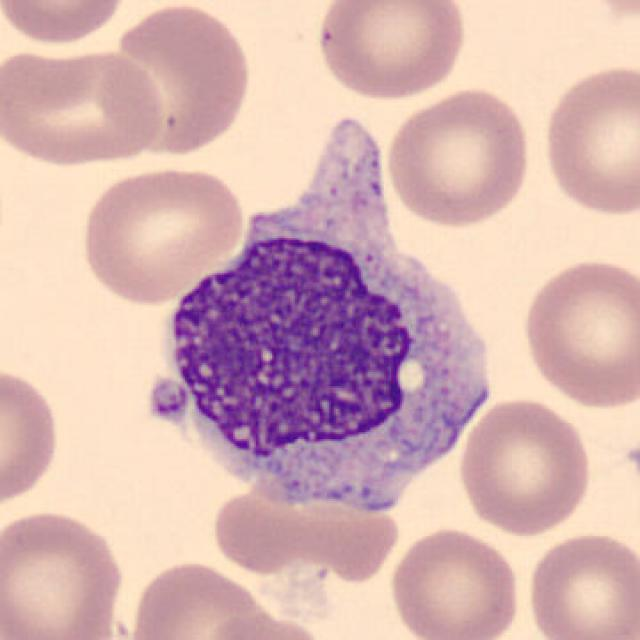Monocyte: (146, 137, 500, 529)
Platelets: (139, 368, 193, 429)
RBC: (76, 160, 249, 307), (204, 466, 400, 590), (105, 0, 256, 159), (381, 83, 535, 229), (0, 41, 171, 169), (455, 393, 596, 538), (518, 254, 638, 412), (0, 504, 130, 640), (383, 523, 524, 640), (537, 60, 638, 220), (313, 0, 471, 102), (121, 557, 279, 640), (523, 527, 638, 640), (0, 360, 66, 514), (0, 0, 133, 47), (196, 610, 334, 640), (569, 0, 640, 28)
